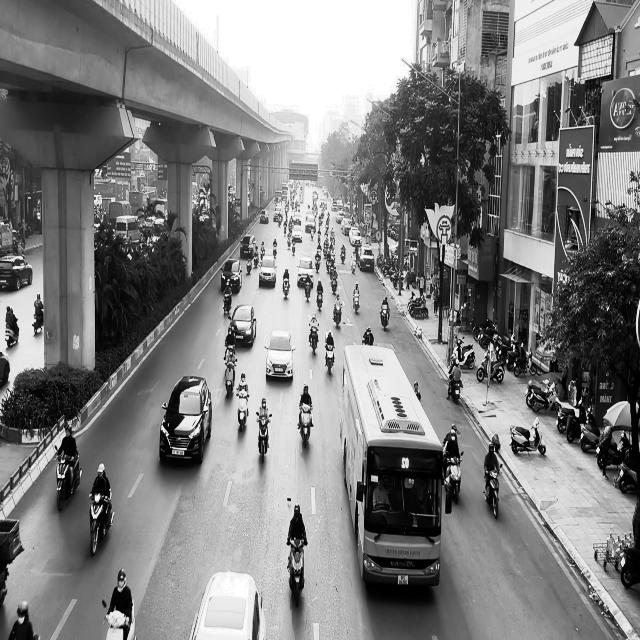bus: (340, 342, 444, 588)
car: (189, 570, 267, 639), (159, 375, 212, 464), (264, 329, 296, 380), (228, 304, 257, 345), (220, 258, 242, 292), (259, 255, 277, 287)
motorbike: (89, 488, 115, 556), (56, 448, 82, 512), (102, 598, 137, 640), (287, 537, 307, 606), (510, 417, 546, 455), (443, 448, 464, 504), (484, 464, 503, 520), (256, 412, 272, 463), (298, 403, 314, 447), (224, 358, 238, 398), (237, 388, 250, 431), (447, 372, 462, 402), (5, 320, 19, 347), (309, 323, 320, 355), (333, 301, 345, 328), (325, 342, 335, 374), (32, 308, 44, 334), (380, 305, 390, 330), (362, 326, 374, 345), (282, 277, 290, 299), (353, 291, 360, 313)
